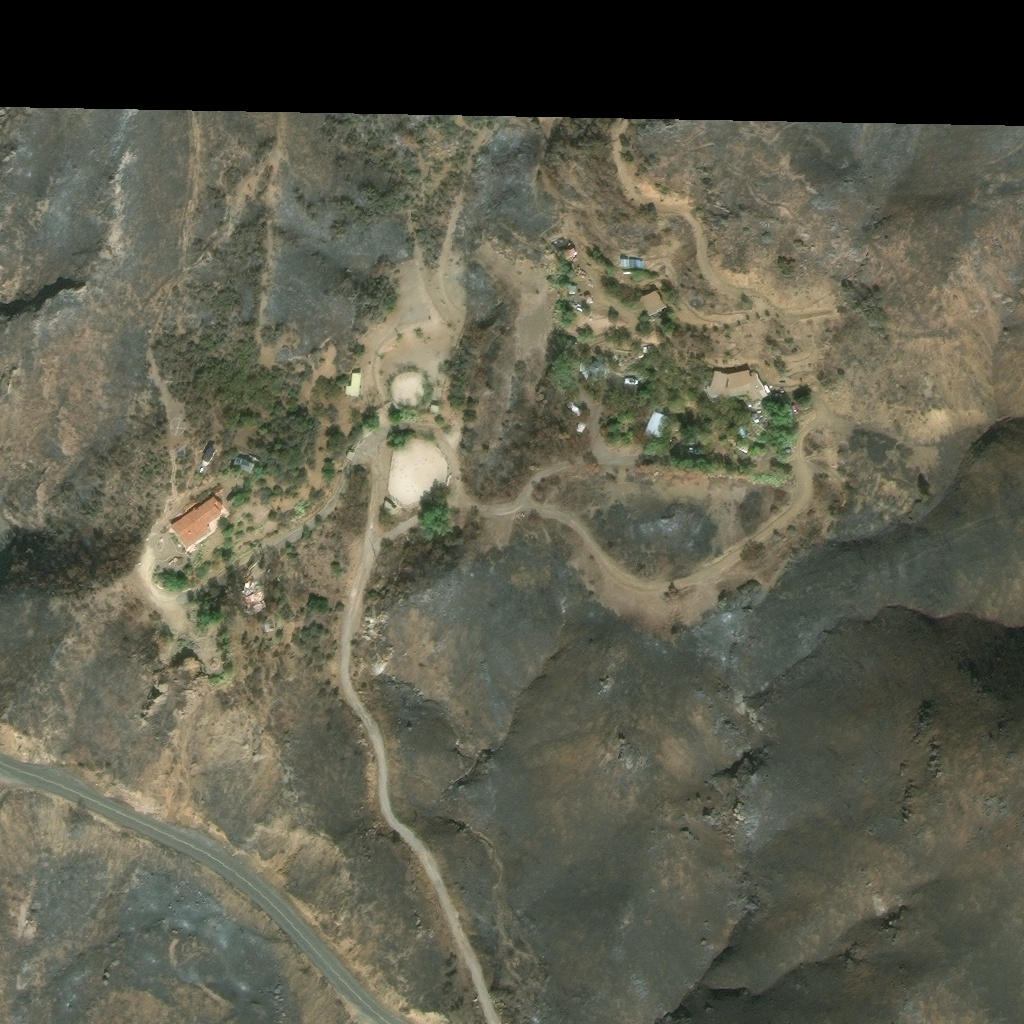0 no-damage: (170, 495, 226, 550), (708, 370, 776, 409), (637, 289, 668, 320), (643, 409, 671, 440), (580, 358, 608, 383), (231, 457, 259, 475), (343, 372, 362, 397), (200, 446, 217, 464), (384, 499, 396, 518), (637, 345, 653, 358), (565, 402, 580, 415), (565, 247, 577, 261), (387, 401, 399, 414), (737, 442, 750, 454), (582, 293, 593, 306), (576, 423, 586, 434), (344, 450, 353, 460), (429, 405, 438, 414), (567, 286, 575, 295), (176, 451, 183, 459)
3 destroyed: (245, 582, 263, 610)
